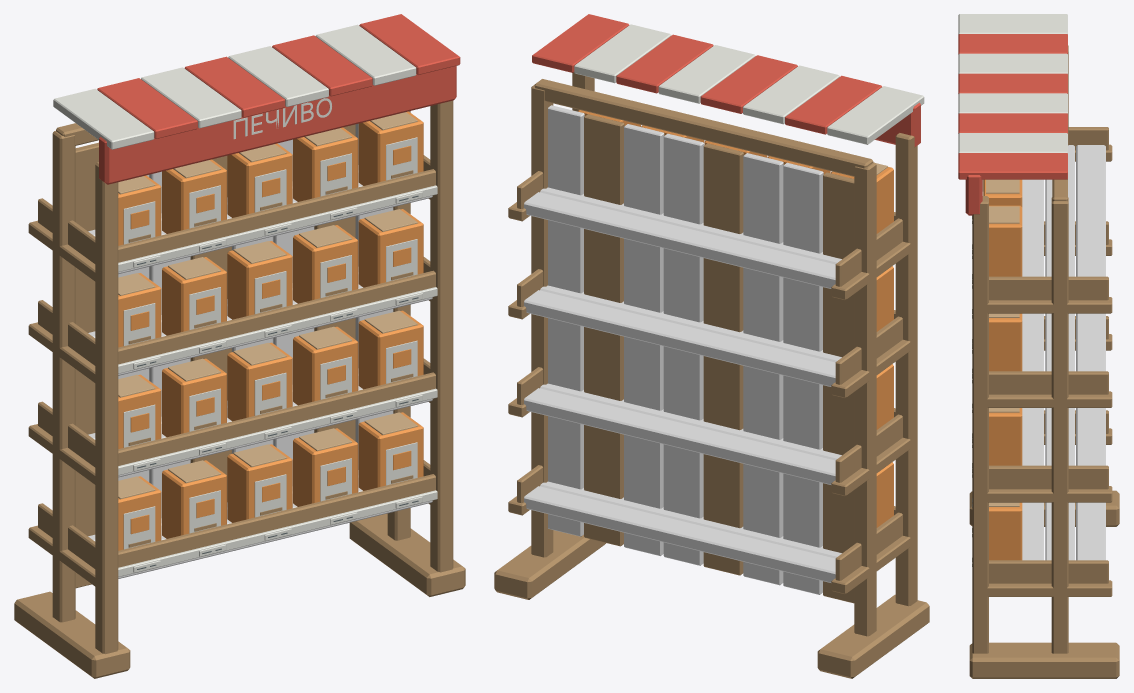
Rendered from Shelf_Biscuits.fbx.
The picture shows the model from 3 angles, left to right: view 1: azimuth 30°, elevation 25°; view 2: azimuth 150°, elevation 25°; view 3: azimuth 270°, elevation 25°; orthographic projection. The views are drawn at different scales.
Parts seen in each view (by area): view 1: Shelf_Biscuits__LPCXFER, Shelf_Biscuits__Striped_Canopy__LPCXFER, Shelf_Biscuits__Back_sweets__LPCXFER, Shelf_Biscuits__Header_sweets__LPCXFER, Shelf_Biscuits__Shelf_3__LPCXFER, Shelf_Biscuits__Shelf_1__LPCXFER, Shelf_Biscuits__Shelf_4__LPCXFER, Shelf_Biscuits__Shelf_2__LPCXFER, Shelf_Biscuits_Item_1_F_5_box__LPCXFER, Shelf_Biscuits_Item_2_F_5_box__LPCXFER, Shelf_Biscuits_Item_2_F_3_box__LPCXFER, Shelf_Biscuits_Item_1_F_3_box__LPCXFER (+17 smaller); view 2: Shelf_Biscuits__Back_sweets__LPCXFER, Shelf_Biscuits__LPCXFER, Shelf_Biscuits__Striped_Canopy__LPCXFER, Shelf_Biscuits__Shelf_4__LPCXFER, Shelf_Biscuits__Shelf_1__LPCXFER, Shelf_Biscuits__Shelf_3__LPCXFER, Shelf_Biscuits__Shelf_2__LPCXFER, Shelf_Biscuits_Item_4_F_1_box__LPCXFER, Shelf_Biscuits_Item_1_F_1_box__LPCXFER, Shelf_Biscuits_Item_3_F_1_box__LPCXFER, Shelf_Biscuits_Item_2_F_1_box__LPCXFER, Shelf_Biscuits__Header_sweets__LPCXFER; view 3: Shelf_Biscuits__LPCXFER, Shelf_Biscuits__Striped_Canopy__LPCXFER, Shelf_Biscuits__Shelf_4__LPCXFER, Shelf_Biscuits__Shelf_2__LPCXFER, Shelf_Biscuits__Shelf_1__LPCXFER, Shelf_Biscuits__Shelf_3__LPCXFER, Shelf_Biscuits_Item_4_F_5_box__LPCXFER, Shelf_Biscuits_Item_1_F_5_box__LPCXFER, Shelf_Biscuits_Item_3_F_5_box__LPCXFER, Shelf_Biscuits_Item_2_F_5_box__LPCXFER, Shelf_Biscuits_Item_4_F_4_box__LPCXFER, Shelf_Biscuits__Header_sweets__LPCXFER.
Part boxes in pixels (x1,y1,x2,y2): Shelf_Biscuits__LPCXFER: [14, 100, 465, 678]; Shelf_Biscuits__Striped_Canopy__LPCXFER: [53, 14, 460, 149]; Shelf_Biscuits__Back_sweets__LPCXFER: [75, 123, 393, 588]; Shelf_Biscuits__Header_sweets__LPCXFER: [99, 66, 456, 184]; Shelf_Biscuits__Shelf_3__LPCXFER: [38, 257, 437, 375]; Shelf_Biscuits__Shelf_1__LPCXFER: [38, 460, 437, 578]; Shelf_Biscuits__Shelf_4__LPCXFER: [38, 155, 437, 273]; Shelf_Biscuits__Shelf_2__LPCXFER: [38, 358, 437, 477]; Shelf_Biscuits_Item_1_F_5_box__LPCXFER: [358, 412, 423, 490]; Shelf_Biscuits_Item_2_F_5_box__LPCXFER: [358, 310, 423, 389]; Shelf_Biscuits_Item_2_F_3_box__LPCXFER: [227, 342, 292, 421]; Shelf_Biscuits_Item_1_F_3_box__LPCXFER: [227, 444, 292, 522]; Shelf_Biscuits__Back_sweets__LPCXFER: [548, 105, 854, 603]; Shelf_Biscuits__LPCXFER: [494, 72, 929, 678]; Shelf_Biscuits__Striped_Canopy__LPCXFER: [532, 14, 924, 144]; Shelf_Biscuits__Shelf_4__LPCXFER: [517, 171, 902, 288]; Shelf_Biscuits__Shelf_1__LPCXFER: [517, 465, 902, 582]; Shelf_Biscuits__Shelf_3__LPCXFER: [517, 269, 902, 386]; Shelf_Biscuits__Shelf_2__LPCXFER: [517, 367, 902, 484]; Shelf_Biscuits_Item_4_F_1_box__LPCXFER: [831, 163, 893, 233]; Shelf_Biscuits_Item_1_F_1_box__LPCXFER: [876, 462, 893, 527]; Shelf_Biscuits_Item_3_F_1_box__LPCXFER: [876, 266, 893, 331]; Shelf_Biscuits_Item_2_F_1_box__LPCXFER: [876, 364, 893, 429]; Shelf_Biscuits__Header_sweets__LPCXFER: [875, 102, 920, 146]; Shelf_Biscuits__LPCXFER: [969, 45, 1119, 678]; Shelf_Biscuits__Striped_Canopy__LPCXFER: [958, 14, 1067, 179]; Shelf_Biscuits__Shelf_4__LPCXFER: [972, 127, 1108, 300]; Shelf_Biscuits__Shelf_2__LPCXFER: [972, 316, 1108, 489]; Shelf_Biscuits__Shelf_1__LPCXFER: [972, 410, 1108, 583]; Shelf_Biscuits__Shelf_3__LPCXFER: [972, 221, 1108, 394]; Shelf_Biscuits_Item_4_F_5_box__LPCXFER: [989, 205, 1022, 276]; Shelf_Biscuits_Item_1_F_5_box__LPCXFER: [989, 502, 1022, 560]; Shelf_Biscuits_Item_3_F_5_box__LPCXFER: [989, 313, 1022, 371]; Shelf_Biscuits_Item_2_F_5_box__LPCXFER: [989, 408, 1022, 465]; Shelf_Biscuits_Item_4_F_4_box__LPCXFER: [982, 179, 1022, 206]; Shelf_Biscuits__Header_sweets__LPCXFER: [965, 175, 982, 215].
Size of the model in its own units: 154 by 213 by 61.75.
